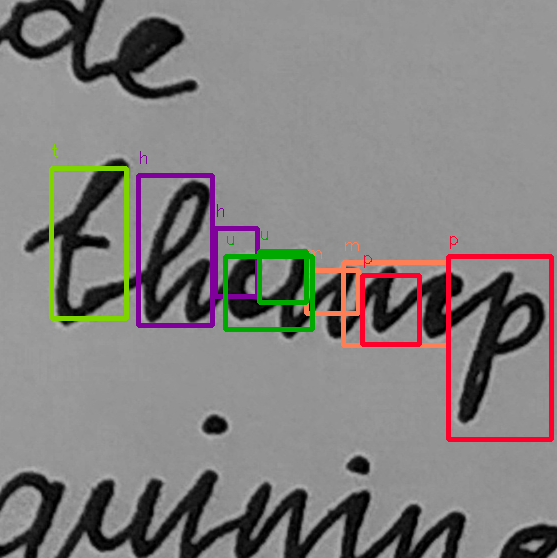h: (138, 177, 214, 328)
m: (318, 261, 464, 347)
p: (455, 265, 551, 433)
t: (45, 154, 131, 331)
u: (220, 242, 314, 342)
